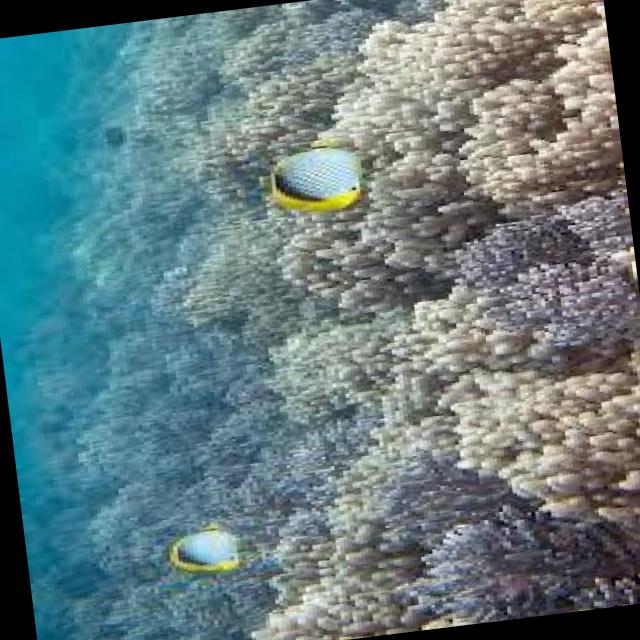ButterflyFish: (231, 124, 387, 228), (152, 514, 255, 584)
